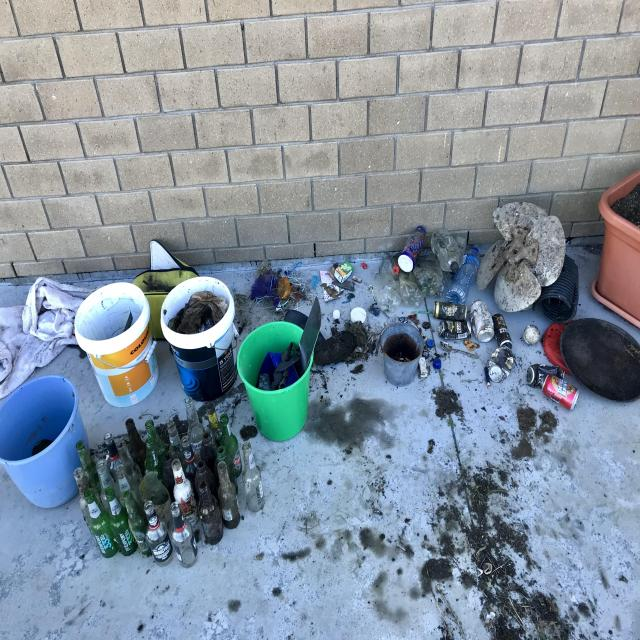litter: (7, 169, 639, 452), (75, 399, 249, 579), (5, 375, 87, 503)
